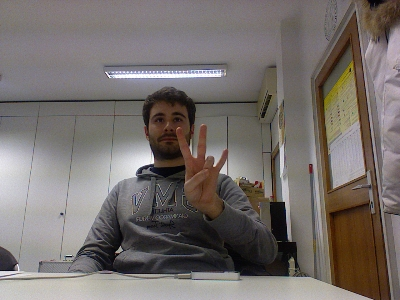观音: (174, 123, 228, 214)
